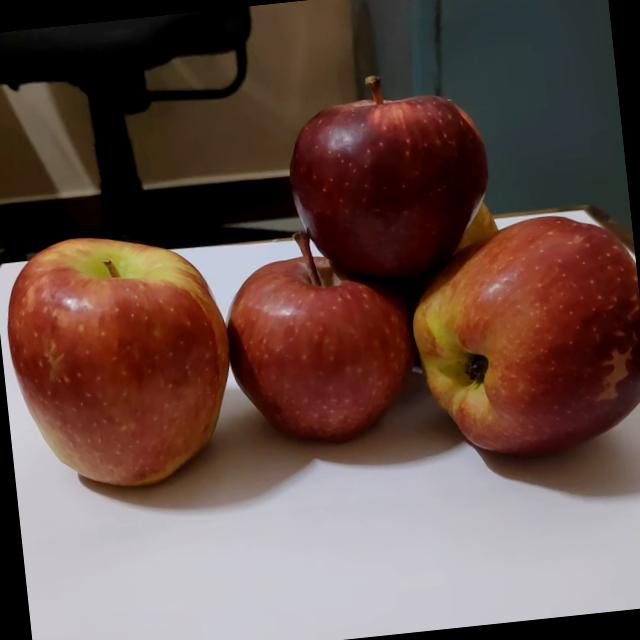apple: (380, 206, 640, 474), (0, 218, 235, 507), (262, 61, 497, 296), (204, 216, 418, 456), (419, 186, 502, 267)
